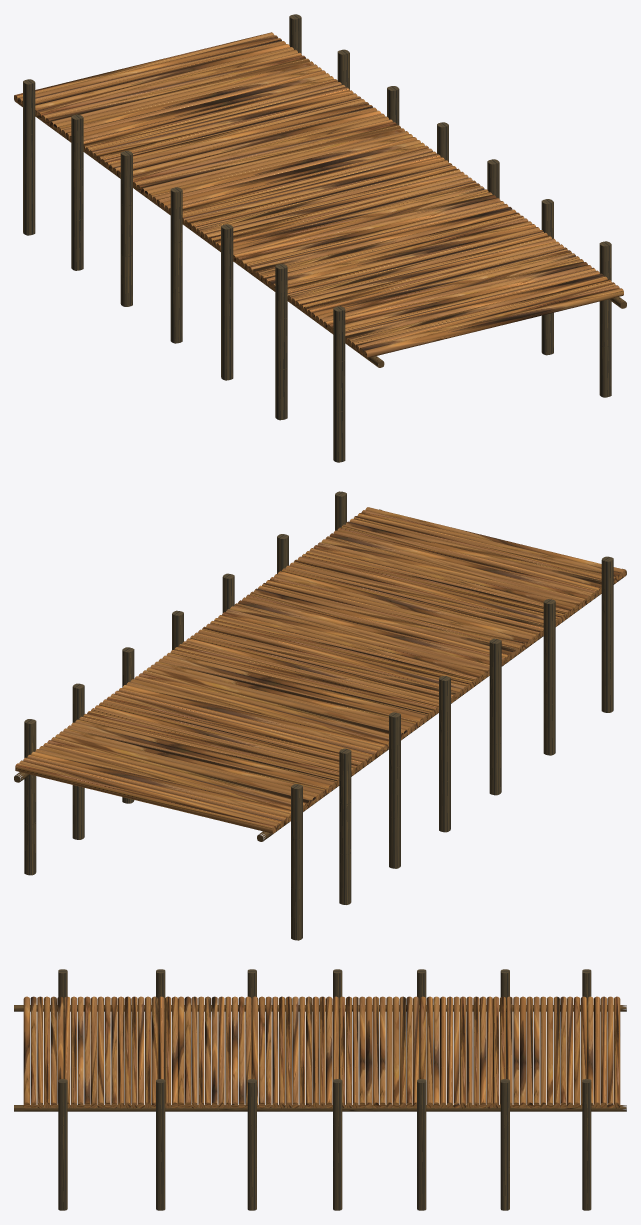
The model's file is bridge_new.fbx.
3 views of the same model, one above another, from view 1: azimuth 30°, elevation 25°; view 2: azimuth 150°, elevation 25°; view 3: azimuth 270°, elevation 25° (orthographic). The views are drawn at different scales.
Visible parts, largest first — view 1: polySurface1; view 2: polySurface1; view 3: polySurface1.
Part boxes in pixels (<box>): polySurface1: <box>14,14,626,462</box>; polySurface1: <box>14,491,626,940</box>; polySurface1: <box>14,969,626,1210</box>.
Size of the model in its own units: 104 by 54.4 by 237.
